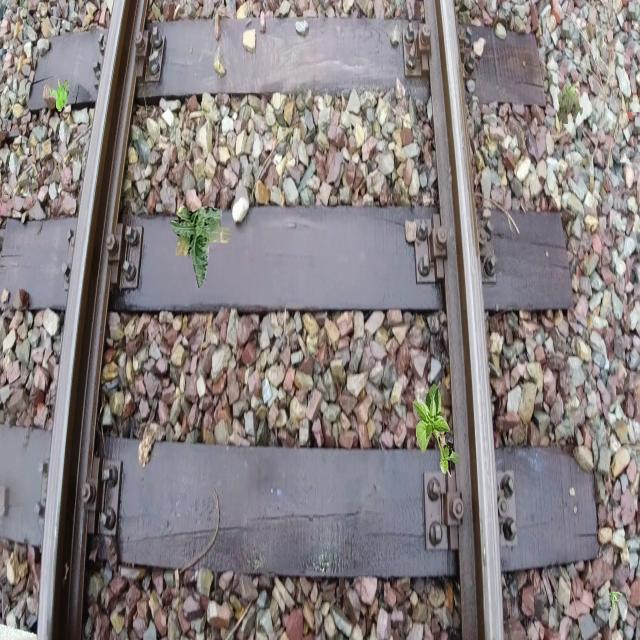Plant: (169, 206, 232, 289), (412, 383, 460, 478), (557, 82, 583, 124), (49, 79, 70, 112), (609, 591, 623, 612)
